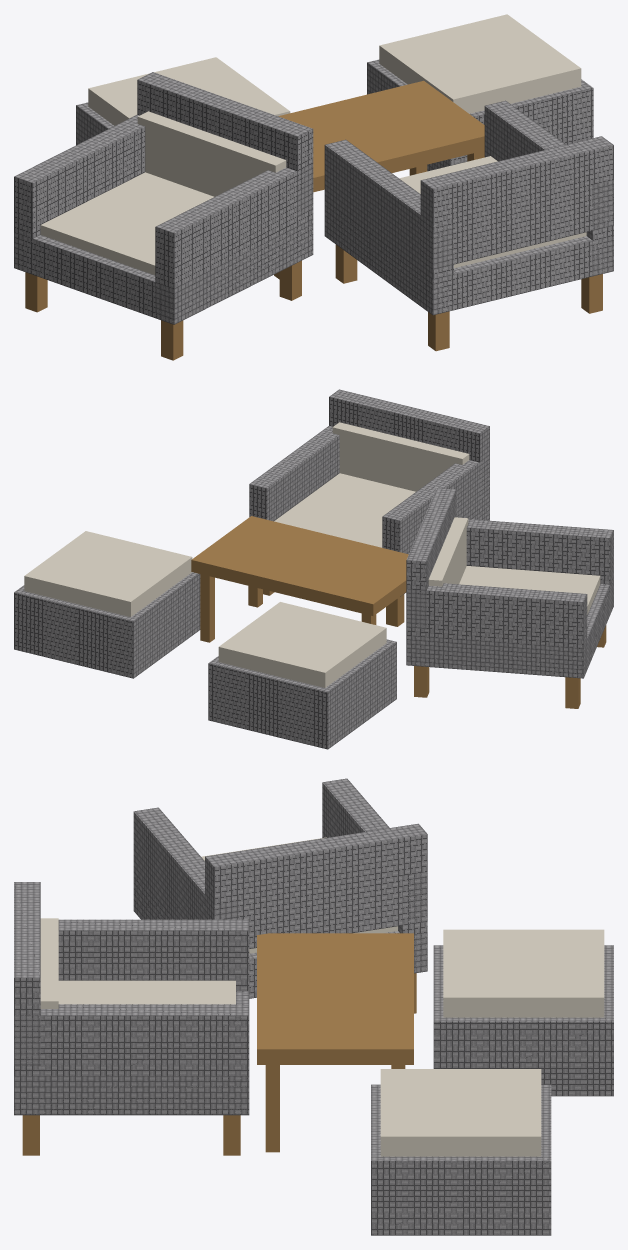
File: backyard_lounge.glb
3 renders of one model, top to bottom at view 1: azimuth 30°, elevation 25°; view 2: azimuth 150°, elevation 25°; view 3: azimuth 270°, elevation 25°, orthographic. The views are drawn at different scales.
Visible parts, largest first — view 1: root; view 2: root; view 3: root.
Part boxes in pixels (x1,y1,x2,y2): root: (14, 14, 613, 360); root: (14, 389, 613, 749); root: (14, 778, 613, 1235).
Bounding box in the file's own units: 2.88 × 0.7772 × 2.33.
Materials: 3 (1 with a texture image).
